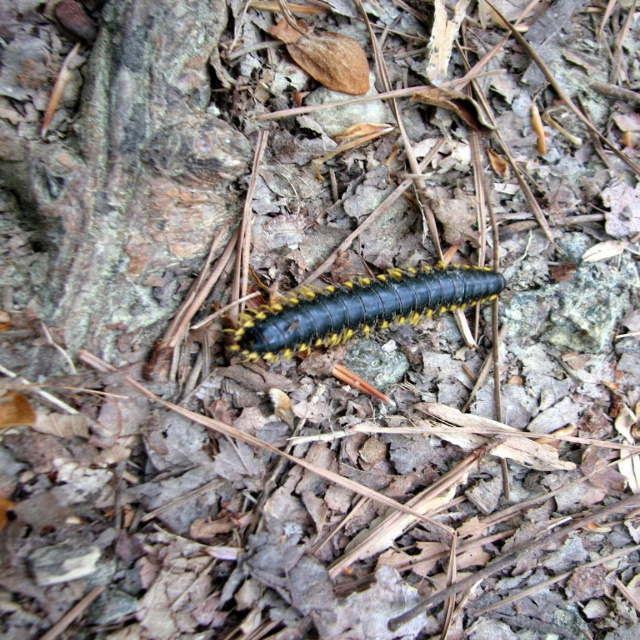Caterpillar: (229, 245, 515, 368)
